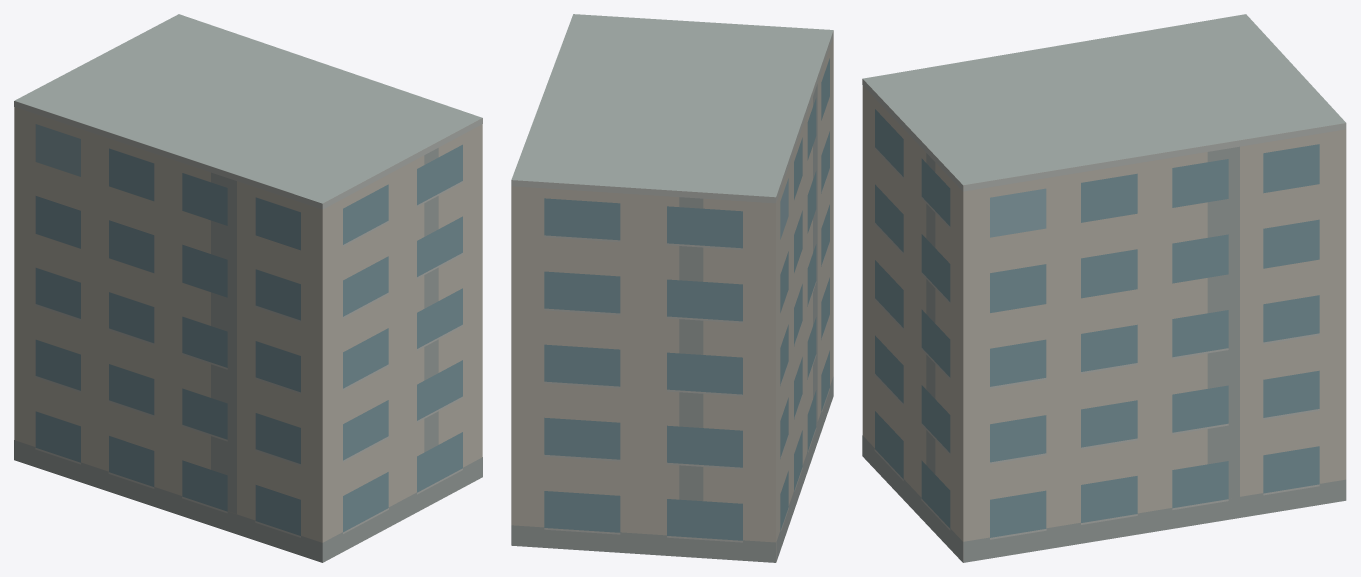
File: survey-upis-32889324.glb
3 views of the same model, side by side, from view 1: azimuth 30°, elevation 25°; view 2: azimuth 150°, elevation 25°; view 3: azimuth 270°, elevation 25° (orthographic). The views are drawn at different scales.
Parts seen in each view (by area): view 1: survey-upis-32889324.tmp; view 2: survey-upis-32889324.tmp; view 3: survey-upis-32889324.tmp.
Boxes of the visible parts, x1,y1,x2,y2 form: survey-upis-32889324.tmp: (14,14,482,562); survey-upis-32889324.tmp: (511,14,833,562); survey-upis-32889324.tmp: (862,14,1346,562).
Size of the model in its own units: 14.02 by 14.4 by 16.73.
